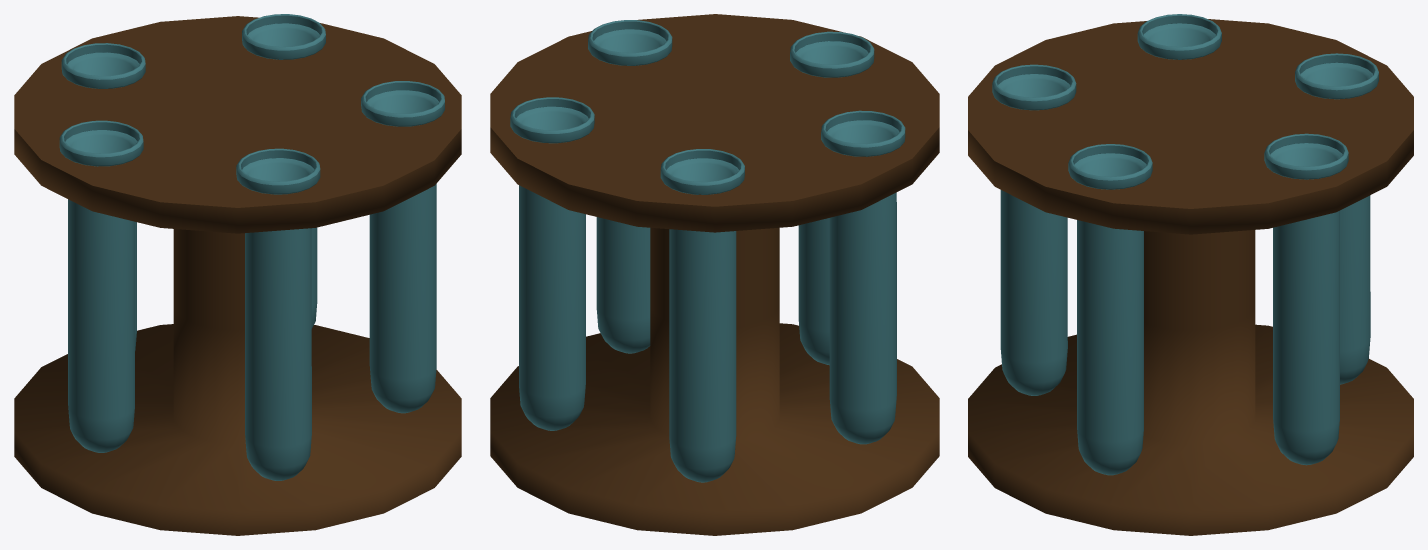
Rendered from tubeAessai_low.fbx.
3 renders of one model, left to right at view 1: azimuth 30°, elevation 25°; view 2: azimuth 150°, elevation 25°; view 3: azimuth 270°, elevation 25°, orthographic.
Visible parts, largest first — view 1: support, tubeAessai5, tubeAessai2, tubeAessai, tubeAessai4, tubeAessai3; view 2: support, tubeAessai3, tubeAessai2, tubeAessai4, tubeAessai, tubeAessai5; view 3: support, tubeAessai, tubeAessai4, tubeAessai5, tubeAessai3, tubeAessai2.
Part boxes in pixels (<box>): support: <box>14,16,461,535</box>; tubeAessai5: <box>236,148,320,480</box>; tubeAessai2: <box>59,120,143,452</box>; tubeAessai: <box>361,81,444,413</box>; tubeAessai4: <box>242,14,325,328</box>; tubeAessai3: <box>61,43,145,350</box>; support: <box>490,14,939,535</box>; tubeAessai3: <box>660,149,744,482</box>; tubeAessai2: <box>821,110,905,444</box>; tubeAessai4: <box>510,97,594,430</box>; tubeAessai: <box>588,20,672,353</box>; tubeAessai5: <box>790,31,874,365</box>; support: <box>968,19,1413,535</box>; tubeAessai: <box>1068,144,1152,475</box>; tubeAessai4: <box>1264,133,1348,465</box>; tubeAessai5: <box>992,64,1076,395</box>; tubeAessai3: <box>1295,53,1378,384</box>; tubeAessai2: <box>1137,14,1221,59</box>.
Size of the model in its own units: 14.08 by 11.68 by 13.87.
